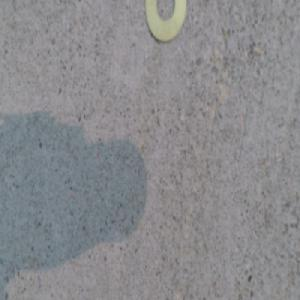Washer: (144, 0, 186, 43)
